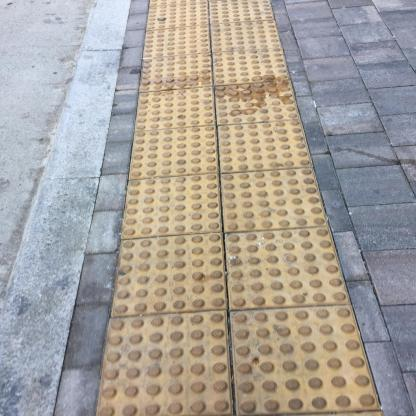podotacti: (85, 0, 388, 415)
